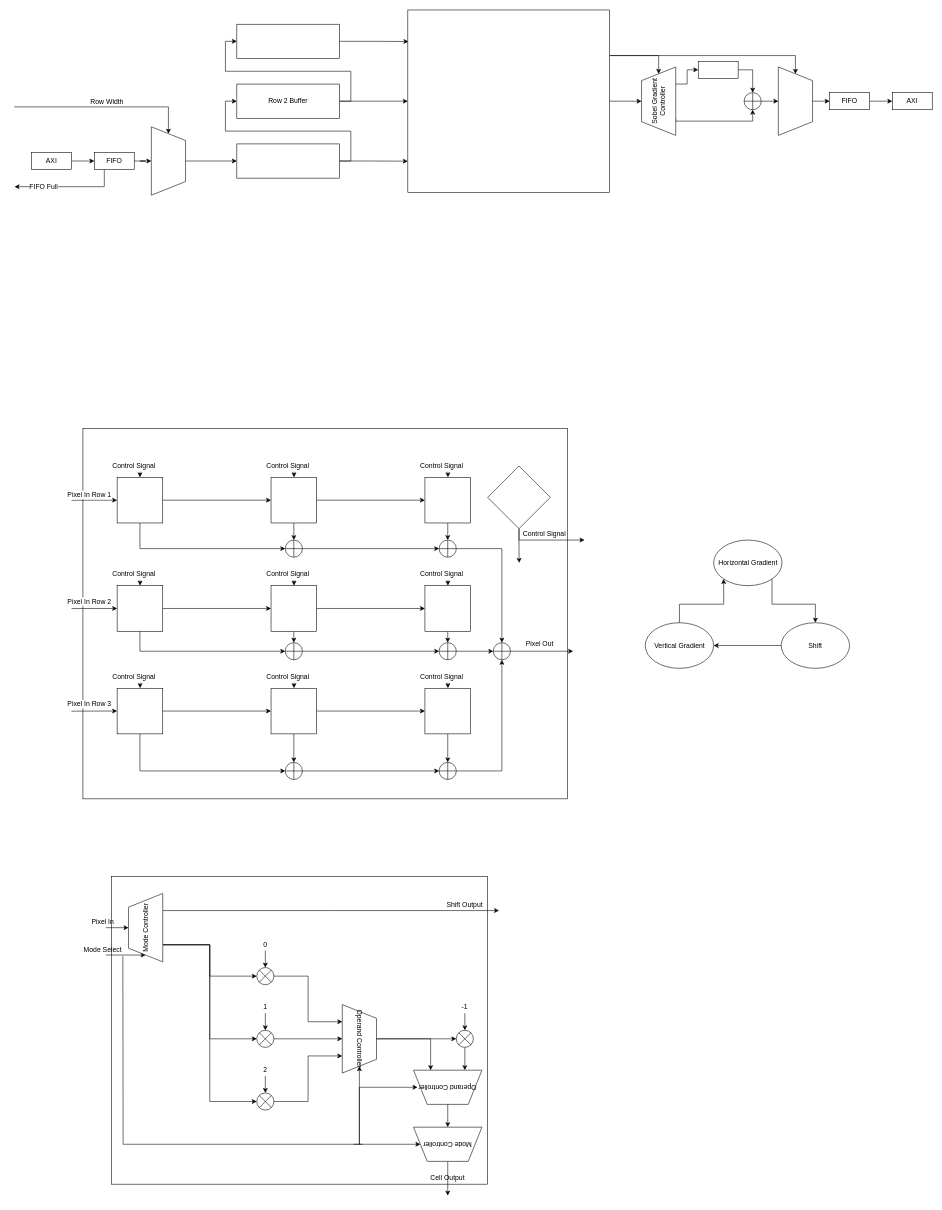
Image size: 942x1210. Some labels were removed from this diagram. Here are the shapes that lost their labels. From the top down, the centre of each, then its label:
At point (287, 41): "Row 1 Buffer".
At point (718, 69): "Shift Register".
At point (508, 100): "3x3 Kernel Convolution".
At point (795, 100): "Sobel Output Controller".
At point (168, 160): "Row Controller".
At point (287, 160): "Row 3 Buffer".
At point (518, 497): "3x3 Kernel Convolution Controller".
